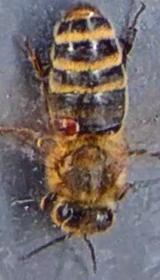varroa_mite: (52, 107, 86, 140)
